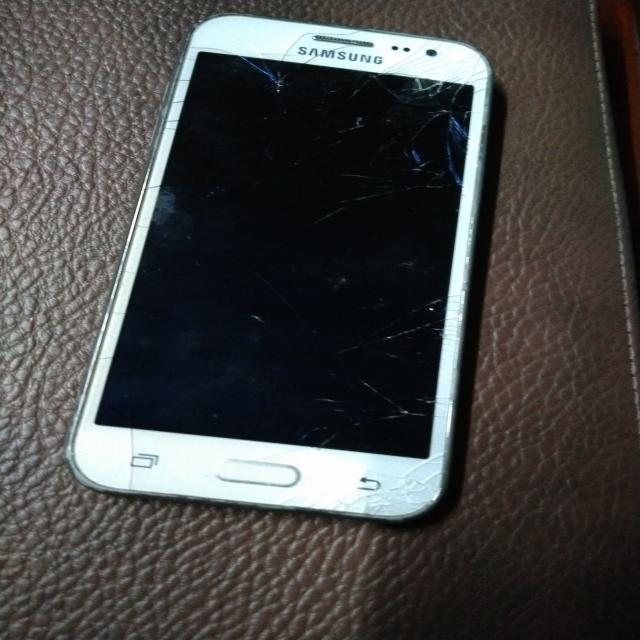Crack: (367, 297, 465, 531), (359, 52, 481, 177), (226, 31, 303, 112)
